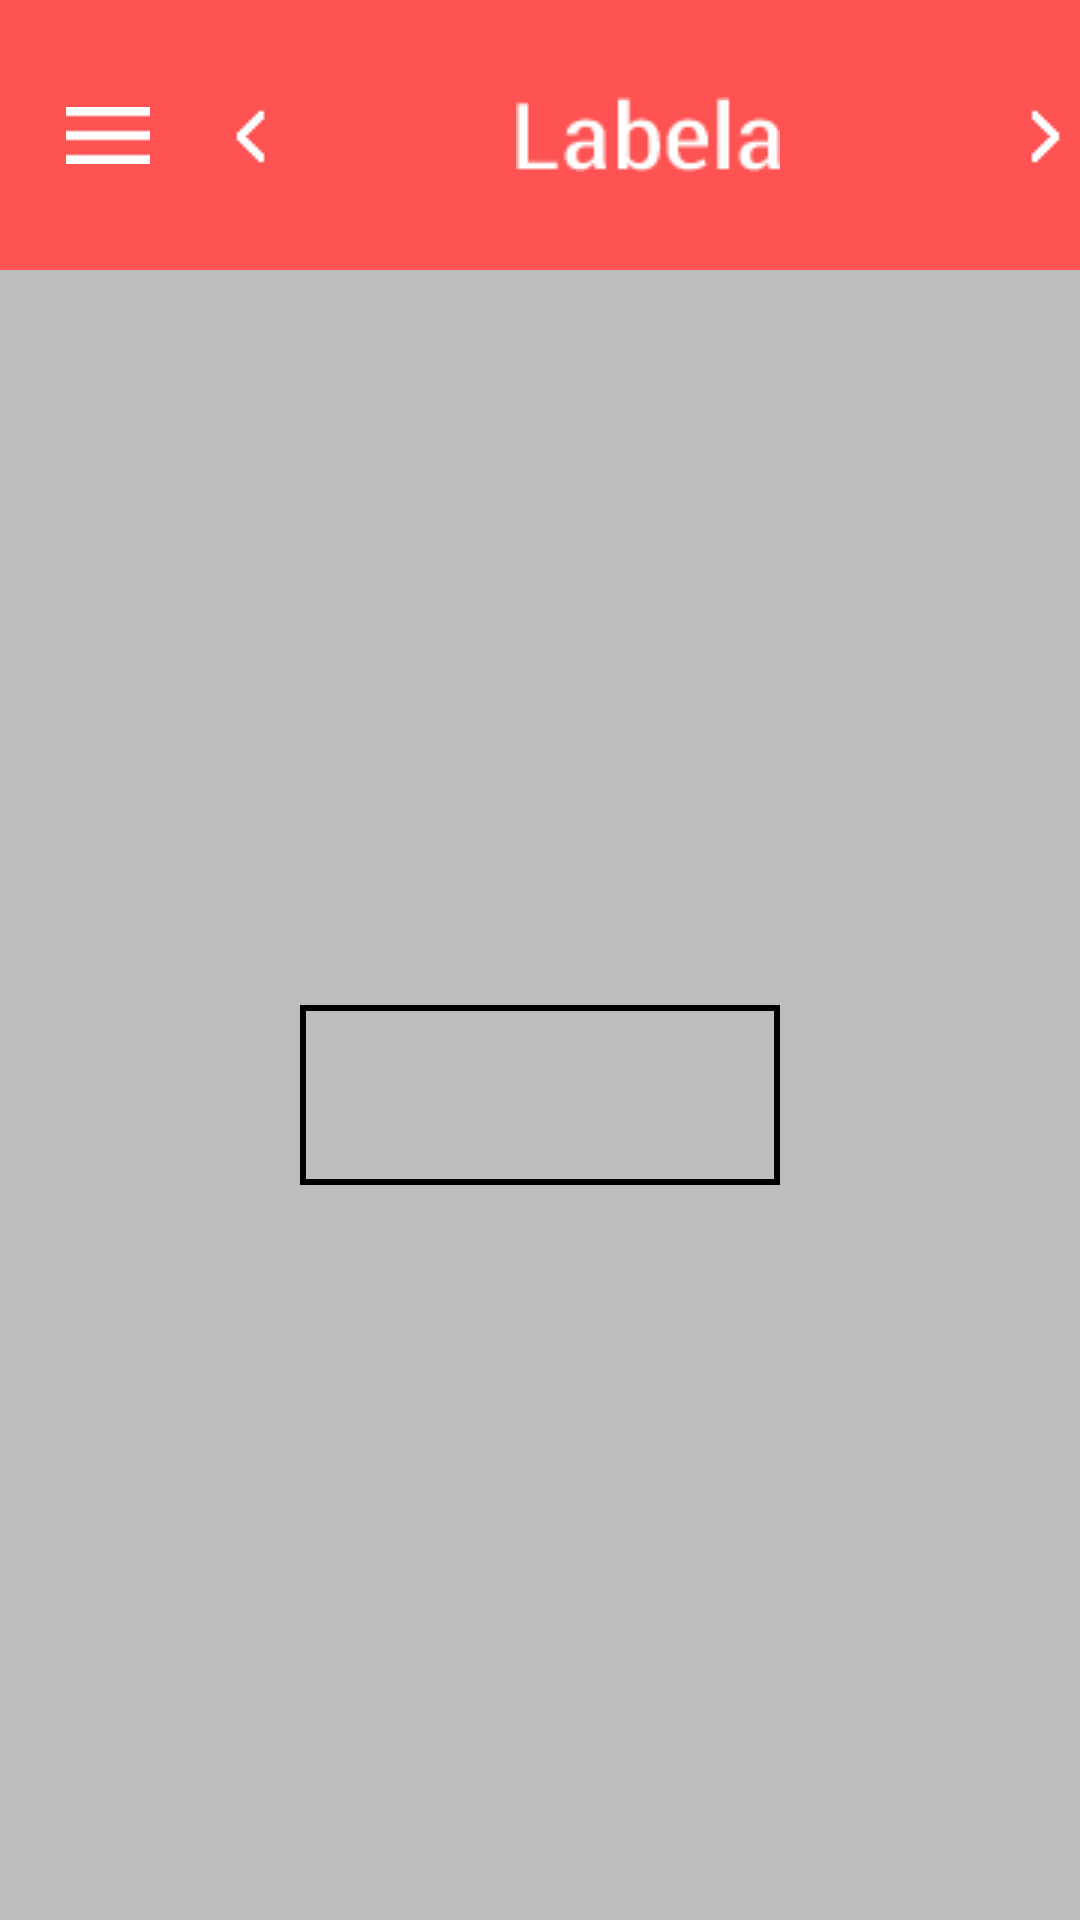

Screen size 1080x1920. Icon name, then its box in pixels as (x1, y1, x2, y2):
arrowl: (236, 110, 265, 163)
arrowr: (1031, 110, 1060, 163)
menu: (66, 107, 150, 164)
